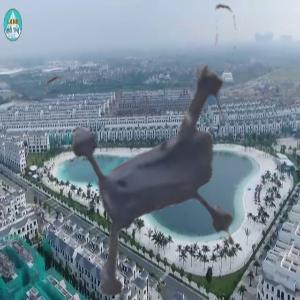drone: (25, 8, 297, 280)
